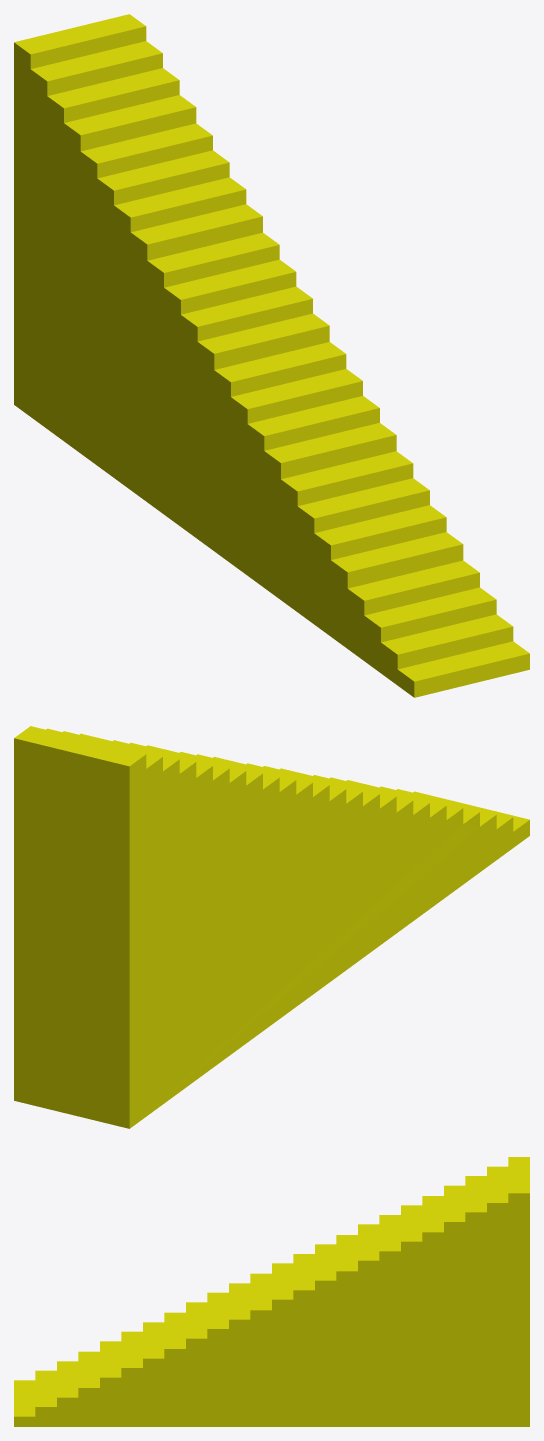
Rendered from SM_Buildings_Stairs_1x3_01.glb.
3 views of the same model, one above another, from view 1: azimuth 30°, elevation 25°; view 2: azimuth 150°, elevation 25°; view 3: azimuth 270°, elevation 25° (orthographic). The views are drawn at different scales.
Visible parts, largest first — view 1: SM_Buildings_Stairs_1x3_01; view 2: SM_Buildings_Stairs_1x3_01; view 3: SM_Buildings_Stairs_1x3_01.
Boxes of the visible parts, left/top/right/bottom form: SM_Buildings_Stairs_1x3_01: left=14, top=14, right=529, bottom=697; SM_Buildings_Stairs_1x3_01: left=14, top=726, right=529, bottom=1128; SM_Buildings_Stairs_1x3_01: left=14, top=1157, right=529, bottom=1426.
Bounding box in the file's own units: 1 × 3 × 6.
Materials: 1 (1 with a texture image).
